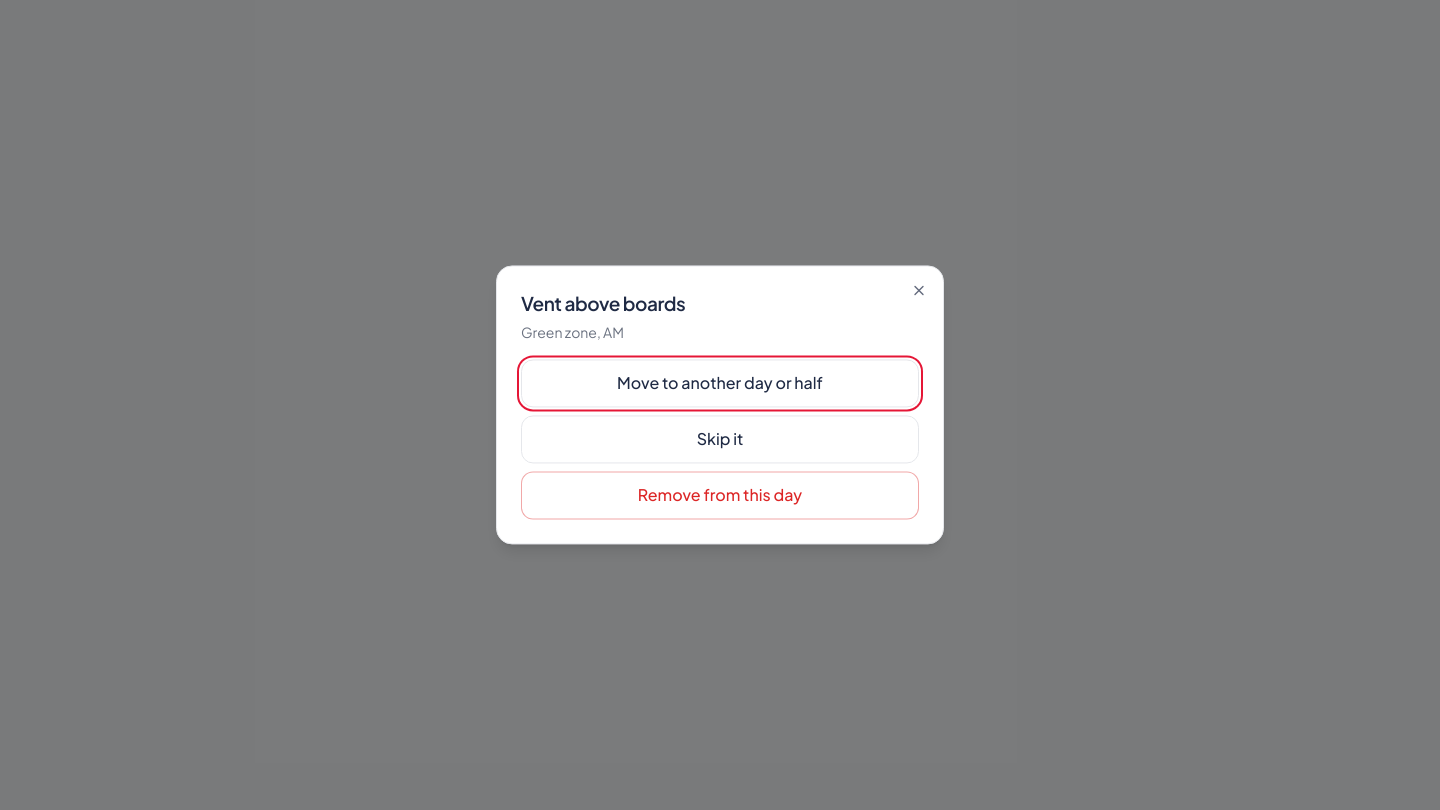
Test case: move › goes back to the menu without sending anything
Click the button "Move to another day or half" at (720, 384), box x1=521 y1=360 x2=919 y2=408
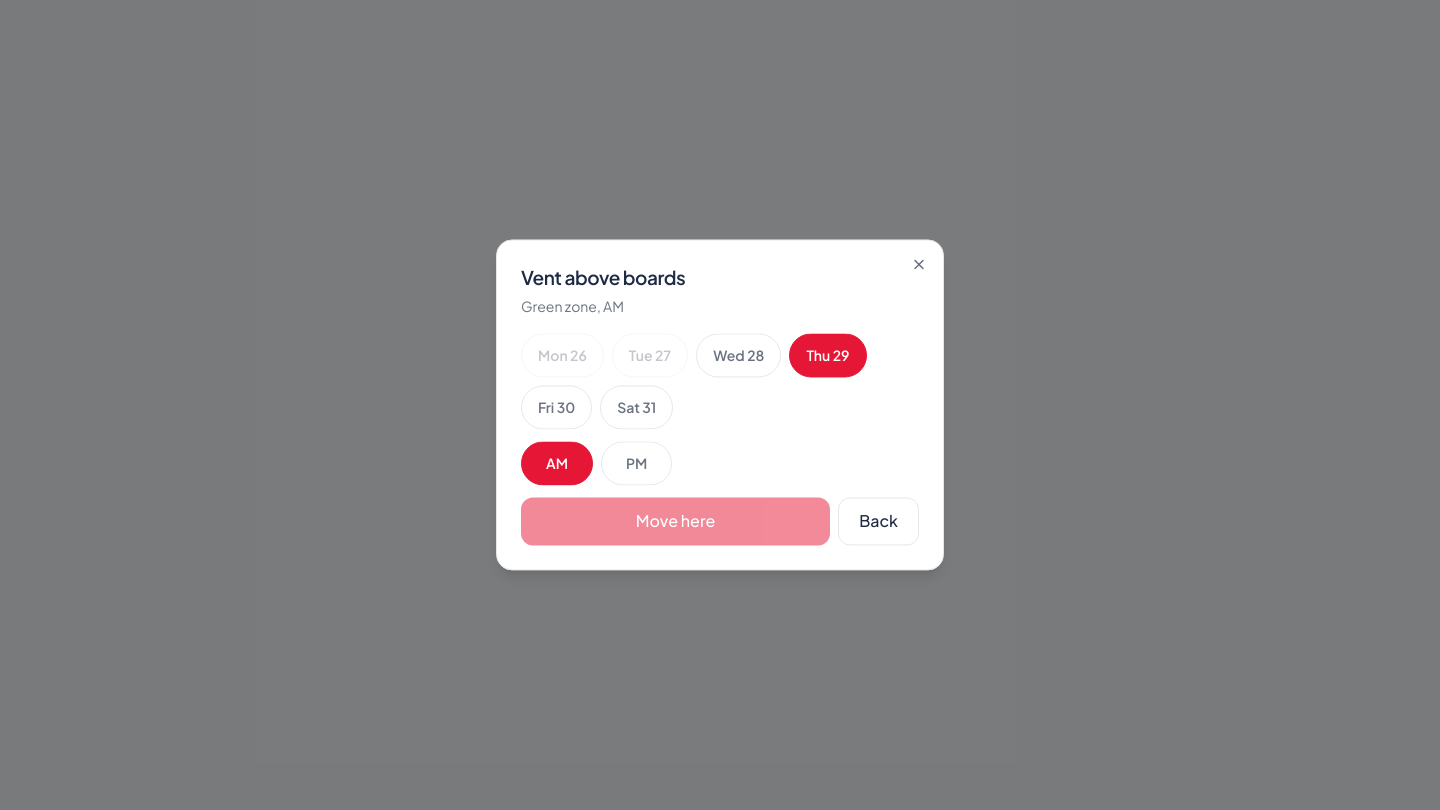
Click the button "Back" at (879, 522), box x1=838 y1=498 x2=919 y2=546
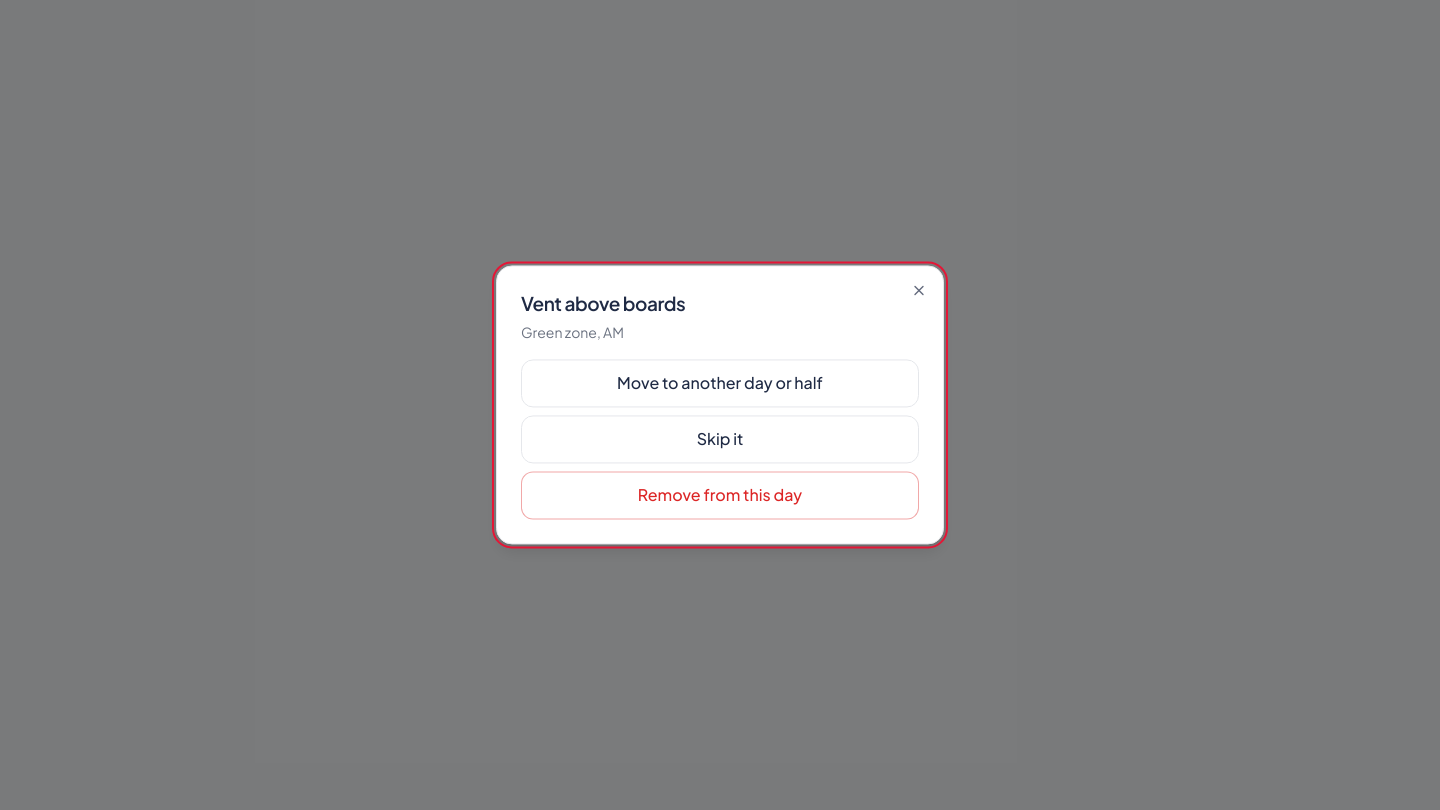
Result: the button "Skip it" is shown at x1=521 y1=416 x2=919 y2=464
